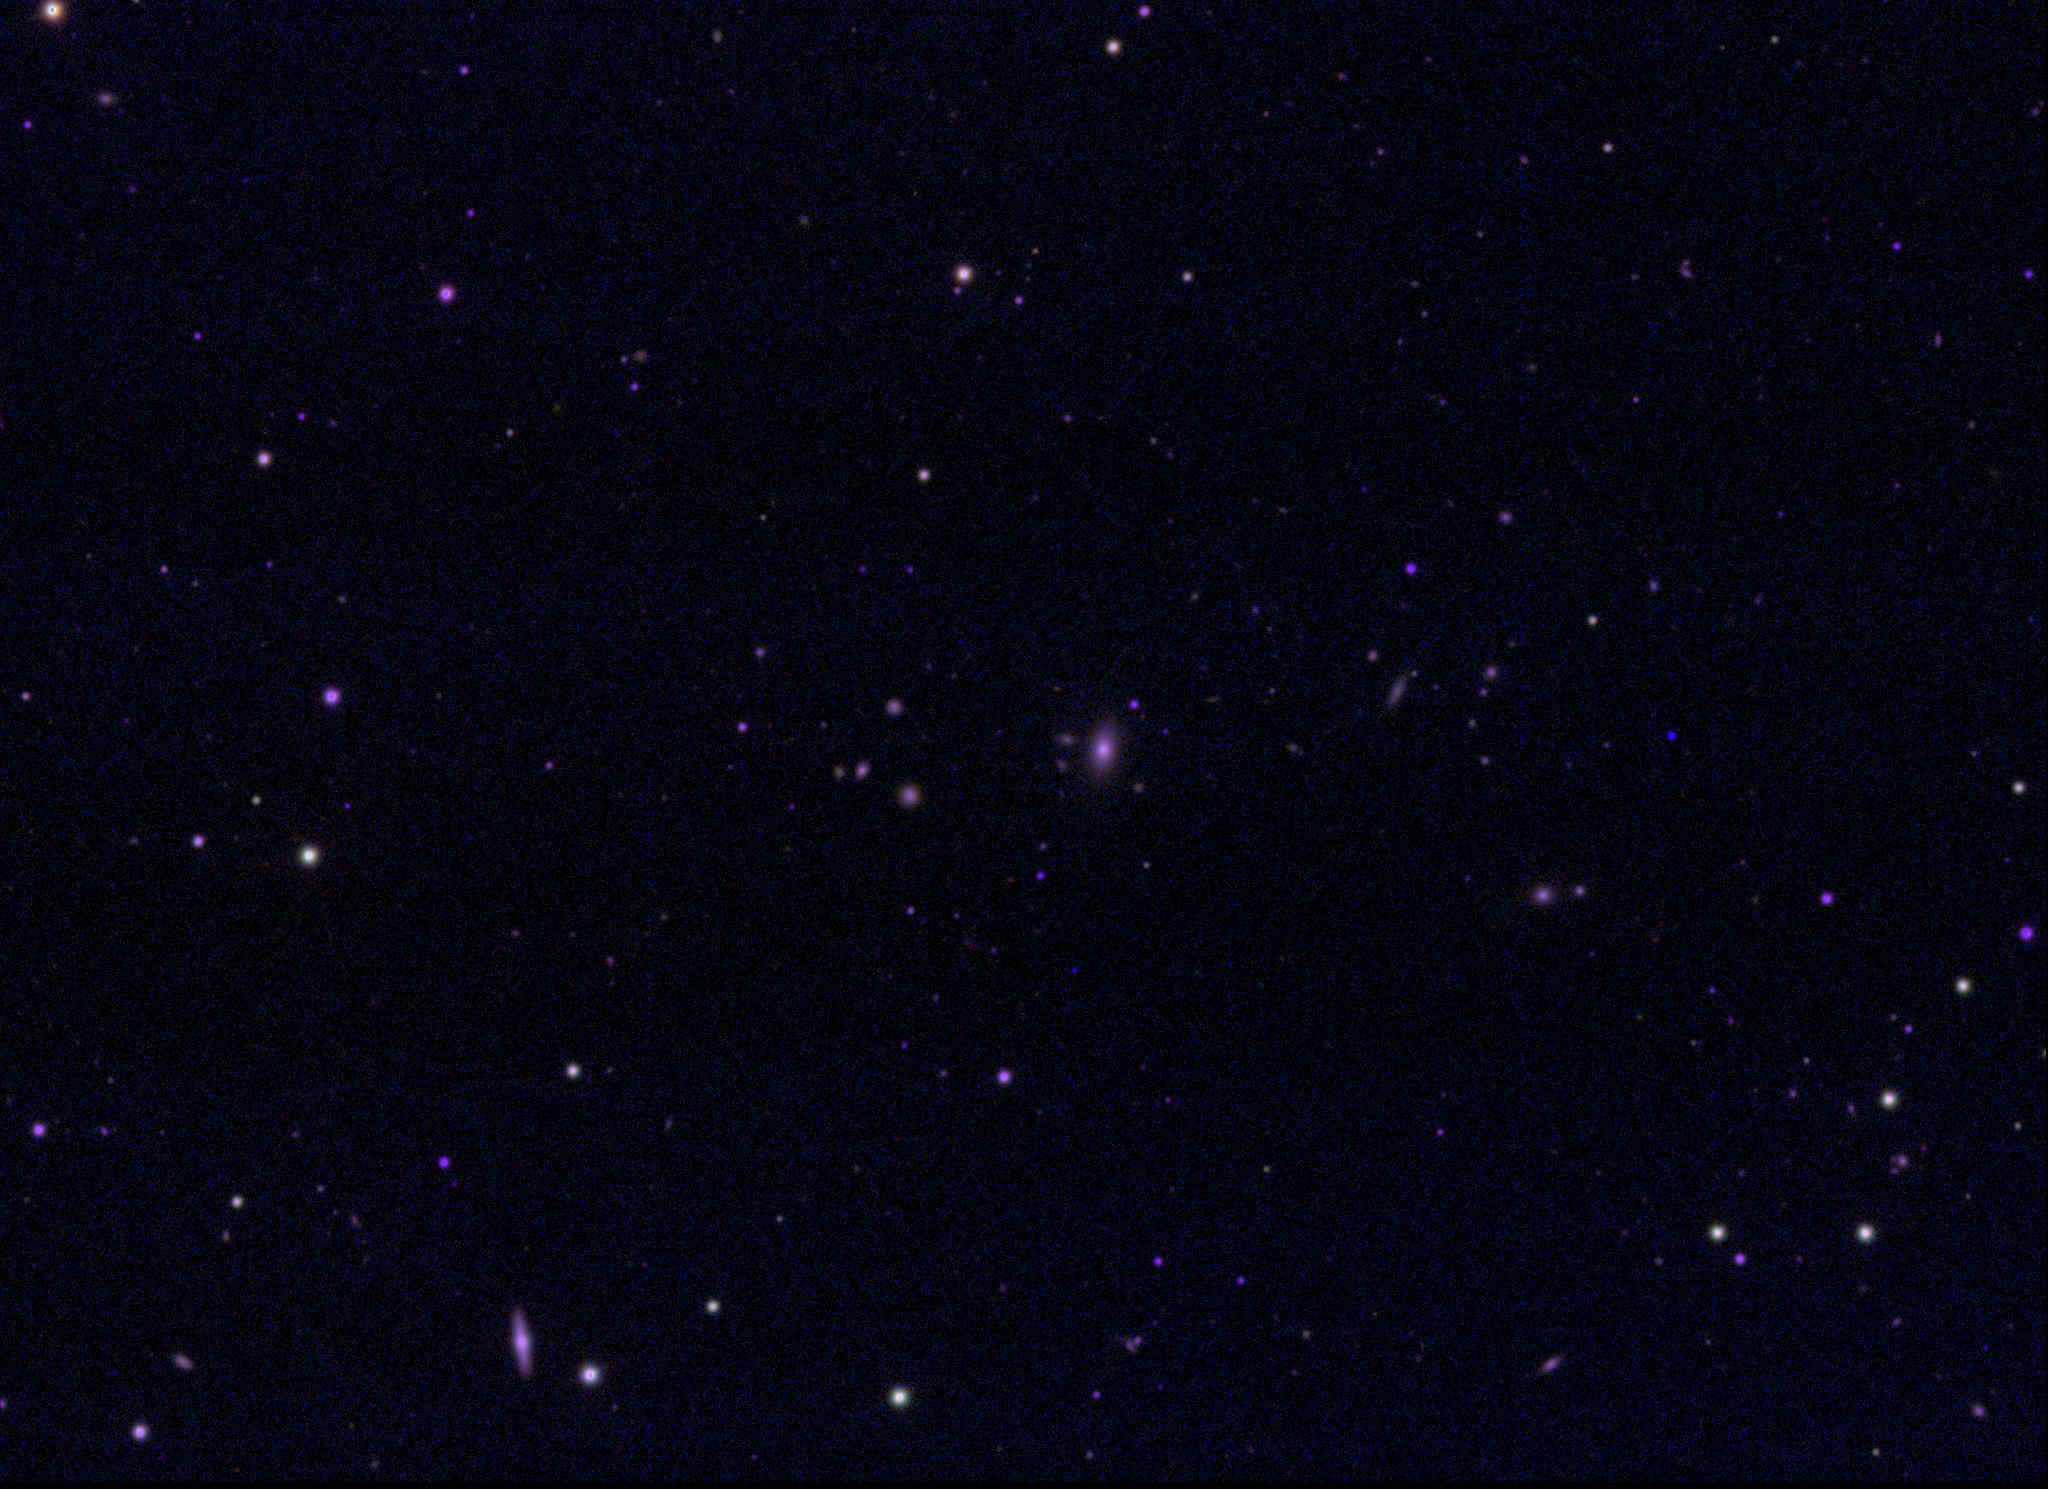L: (1665, 725, 1679, 740)
